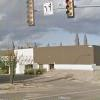Traffic light: (23, 0, 81, 29)
